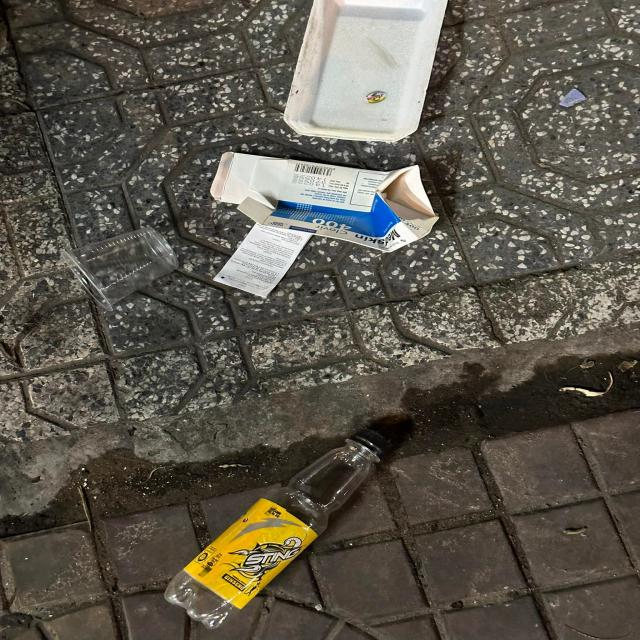bottle: (162, 426, 390, 632)
cardboard box: (208, 150, 443, 256)
foam box: (286, 0, 450, 141)
paper: (212, 224, 312, 298)
plastic glass: (59, 230, 178, 312)
